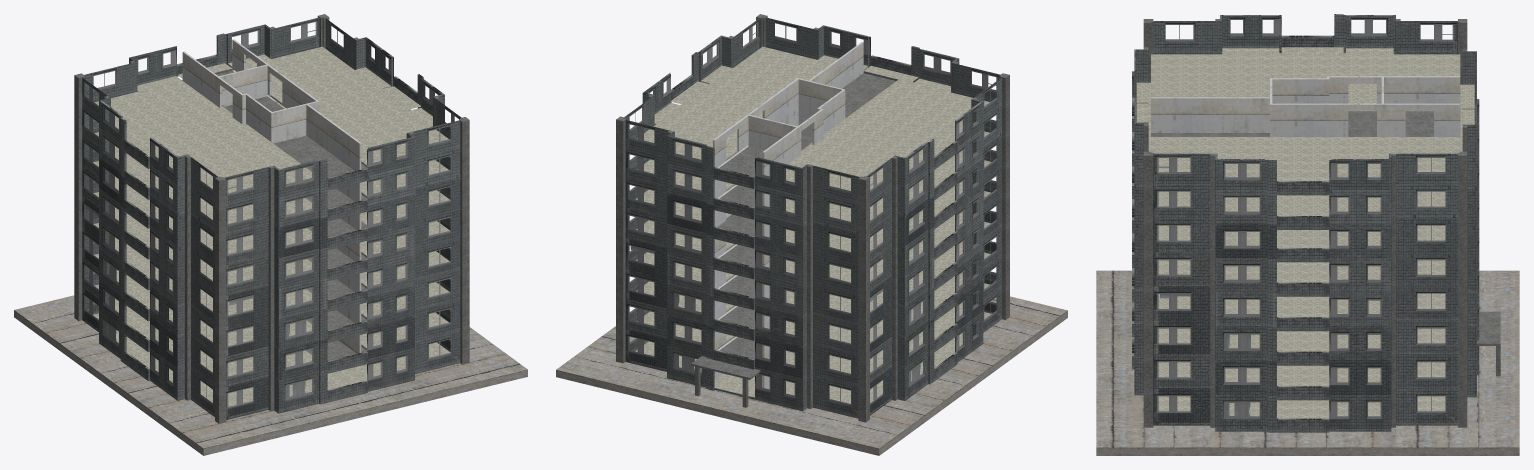
Rendered from BagSS07base_300.fbx.
The picture shows the model from 3 angles, left to right: view 1: azimuth 30°, elevation 25°; view 2: azimuth 150°, elevation 25°; view 3: azimuth 270°, elevation 25°; orthographic projection. The views are drawn at different scales.
Parts seen in each view (by area): view 1: baseMain300, baseramps300, baseBase300, baseceilings300, baseInnerWalls300; view 2: baseMain300, baseramps300, baseBase300, baseceilings300, baseInnerWalls300; view 3: baseMain300, baseramps300, baseBase300, baseInnerWalls300, baseceilings300.
Part boxes in pixels (<box>): baseMain300: <box>82,17,461,419</box>; baseramps300: <box>93,46,450,406</box>; baseBase300: <box>14,295,527,455</box>; baseceilings300: <box>74,14,469,423</box>; baseInnerWalls300: <box>182,39,361,353</box>; baseMain300: <box>624,17,1001,418</box>; baseramps300: <box>635,46,991,403</box>; baseBase300: <box>556,296,1067,455</box>; baseceilings300: <box>616,14,1009,422</box>; baseInnerWalls300: <box>713,42,863,389</box>; baseMain300: <box>1132,14,1479,432</box>; baseramps300: <box>1136,47,1474,418</box>; baseBase300: <box>1096,270,1519,455</box>; baseInnerWalls300: <box>1151,76,1460,136</box>; baseceilings300: <box>1143,19,1500,427</box>.
Bounding box in the file's own units: 42.24 × 31.16 × 42.72.
